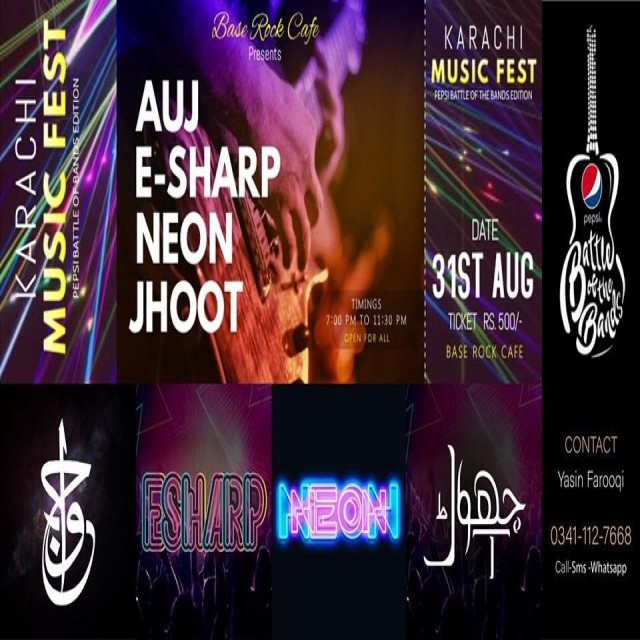pepsi: (581, 158, 605, 216)
